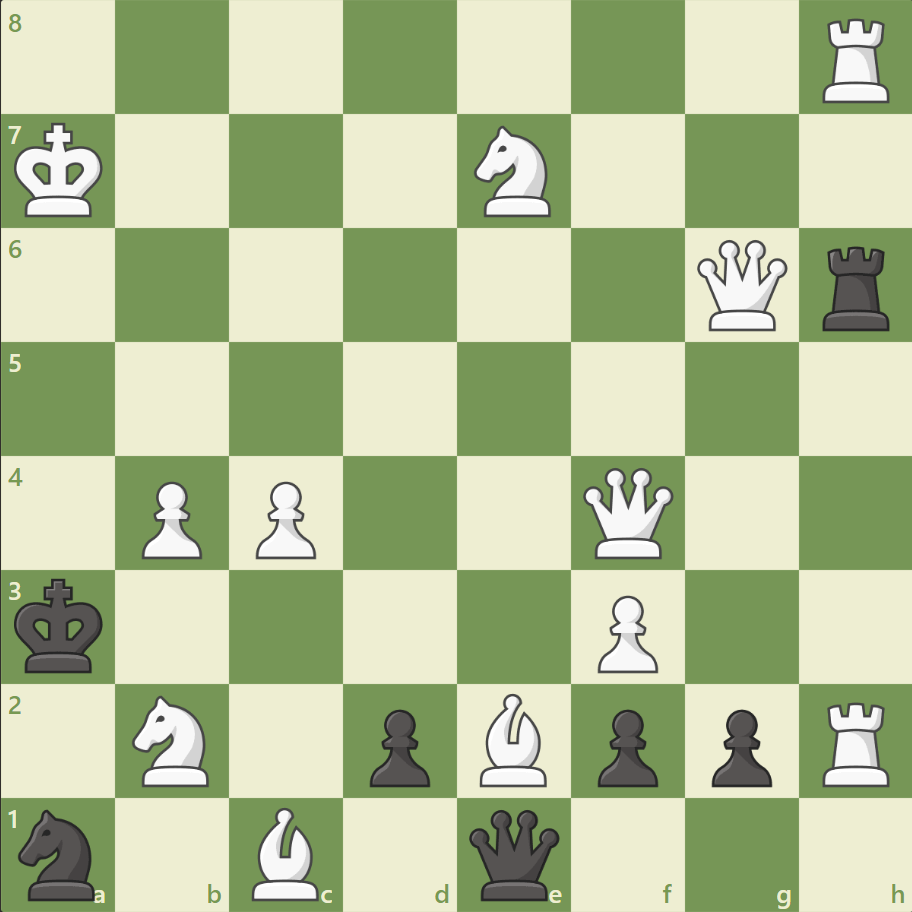B: (471, 687, 555, 790), (244, 801, 328, 904)
K: (11, 117, 111, 225)
N: (124, 688, 222, 791), (465, 121, 562, 223)
P: (133, 473, 208, 564), (247, 473, 322, 564), (588, 586, 662, 677)
Q: (691, 236, 790, 335), (578, 463, 677, 562)
R: (814, 12, 897, 109), (814, 693, 897, 790)
k: (11, 571, 111, 679)
n: (11, 802, 108, 904)
p: (701, 700, 776, 791), (361, 700, 435, 791), (588, 700, 662, 791)
q: (464, 804, 563, 903)
r: (814, 239, 897, 336)
